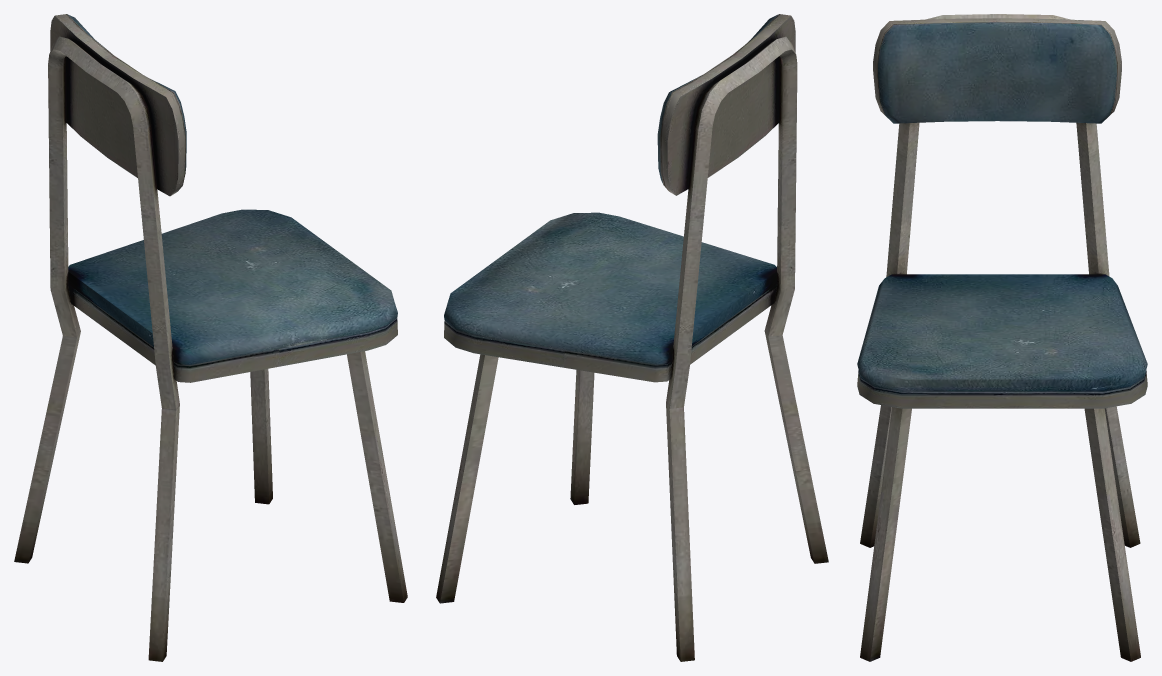
The model's file is furniture_chair03a.glb.
3 renders of one model, left to right at view 1: azimuth 30°, elevation 25°; view 2: azimuth 150°, elevation 25°; view 3: azimuth 270°, elevation 25°, orthographic. The views are drawn at different scales.
Visible parts, largest first — view 1: 0_furniture_chair03a; view 2: 0_furniture_chair03a; view 3: 0_furniture_chair03a.
Part boxes in pixels (x1,y1,x2,y2): 0_furniture_chair03a: [14, 14, 407, 661]; 0_furniture_chair03a: [436, 14, 828, 661]; 0_furniture_chair03a: [857, 14, 1147, 661].
Bounding box in the file's own units: 0.487 × 0.9792 × 0.4845.
1 material, 1 textured.
